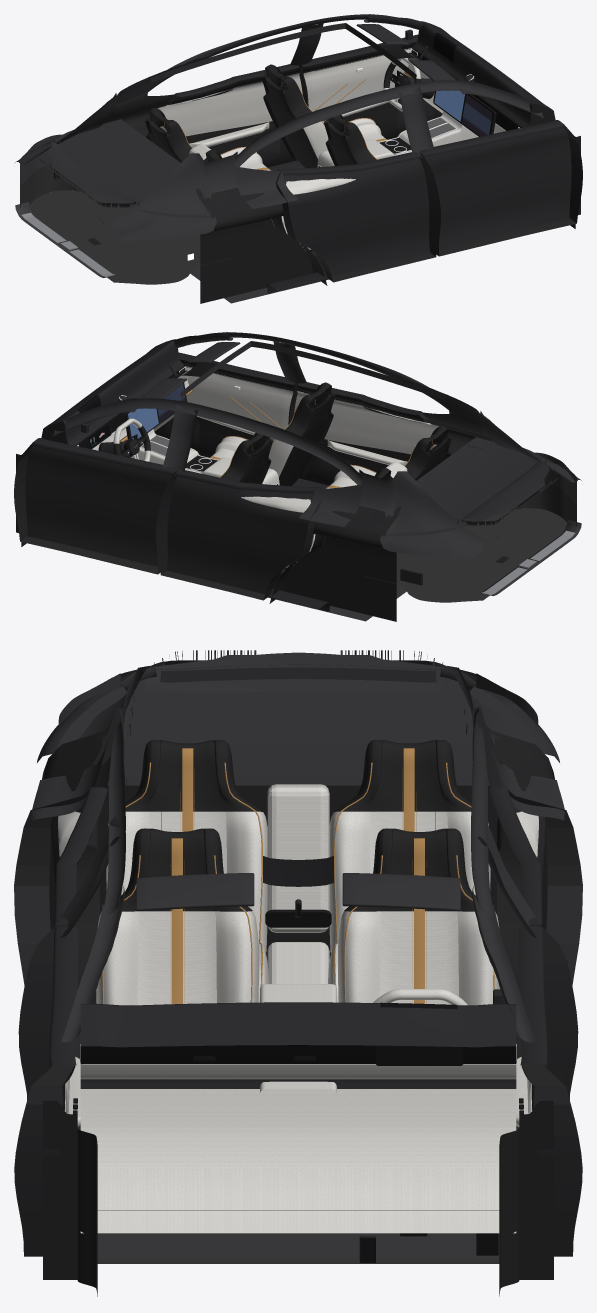
File: voyah-passion-s-interior.glb
3 views of the same model, one above another, from view 1: azimuth 30°, elevation 25°; view 2: azimuth 150°, elevation 25°; view 3: azimuth 270°, elevation 25° (orthographic). The views are drawn at different scales.
Parts seen in each view (by area): view 1: VoyahPassionS_Cabin, int_door_R, int_rdoor_R, int_cpillar, int_rdoor_L, int_parcel_shelf, int_door_L, int_headliner, int_qtr_lower, int_rear_sill, screen_passenger, screen_main (+1 smaller); view 2: VoyahPassionS_Cabin, int_door_L, int_rdoor_L, int_cpillar, int_rdoor_R, int_door_R, int_parcel_shelf, int_headliner, int_qtr_lower, int_rear_sill, screen_main, int_tailgate; view 3: VoyahPassionS_Cabin, int_parcel_shelf, int_door_R, int_door_L, int_rdoor_R, int_rdoor_L, int_rear_sill, int_headliner, int_qtr_lower, int_cpillar, int_tailgate, int_cpillar_flange.
Part boxes in pixels (bbox=[...]): VoyahPassionS_Cabin: bbox=[15, 14, 580, 303]; int_door_R: bbox=[419, 120, 582, 256]; int_rdoor_R: bbox=[275, 152, 438, 282]; int_cpillar: bbox=[15, 91, 237, 241]; int_rdoor_L: bbox=[157, 64, 302, 167]; int_parcel_shelf: bbox=[47, 119, 211, 217]; int_door_L: bbox=[298, 34, 442, 139]; int_headliner: bbox=[115, 23, 416, 127]; int_qtr_lower: bbox=[143, 94, 297, 208]; int_rear_sill: bbox=[51, 142, 139, 203]; screen_passenger: bbox=[462, 94, 492, 136]; screen_main: bbox=[434, 90, 464, 121]; VoyahPassionS_Cabin: bbox=[16, 332, 581, 621]; int_door_L: bbox=[14, 438, 177, 574]; int_rdoor_L: bbox=[158, 470, 321, 600]; int_cpillar: bbox=[359, 409, 581, 559]; int_rdoor_R: bbox=[294, 382, 439, 485]; int_door_R: bbox=[154, 352, 298, 457]; int_parcel_shelf: bbox=[385, 437, 549, 535]; int_headliner: bbox=[180, 341, 481, 445]; int_qtr_lower: bbox=[299, 412, 453, 526]; int_rear_sill: bbox=[457, 460, 545, 521]; screen_main: bbox=[128, 408, 158, 439]; int_tailgate: bbox=[457, 457, 575, 545]; VoyahPassionS_Cabin: bbox=[26, 673, 570, 1296]; int_parcel_shelf: bbox=[57, 655, 539, 785]; int_door_R: bbox=[14, 926, 80, 1256]; int_door_L: bbox=[516, 926, 582, 1256]; int_rdoor_R: bbox=[14, 787, 107, 1099]; int_rdoor_L: bbox=[489, 787, 582, 1099]; int_rear_sill: bbox=[145, 652, 451, 692]; int_headliner: bbox=[126, 664, 470, 846]; int_qtr_lower: bbox=[32, 739, 564, 820]; int_cpillar: bbox=[37, 666, 559, 762]; int_tailgate: bbox=[108, 650, 488, 690]; int_cpillar_flange: bbox=[92, 706, 504, 765].
Bounding box in the file's own units: 3.55 × 1.2 × 1.93.
27 materials, 3 textured.
